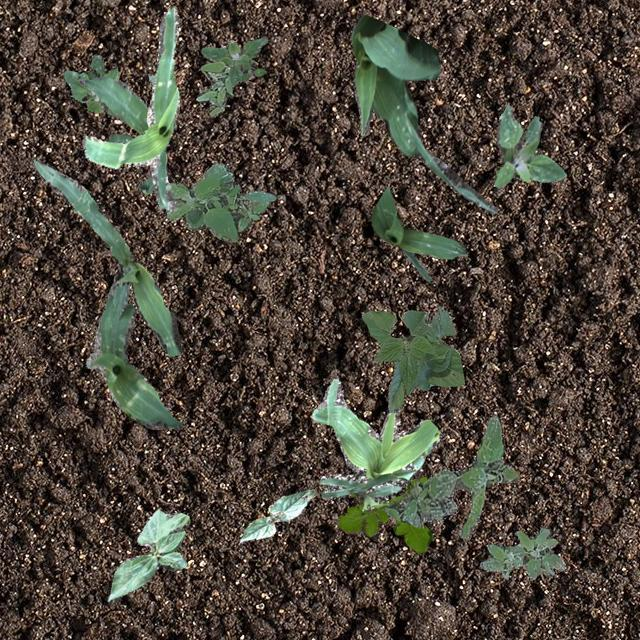crop: (32, 158, 182, 356), (350, 14, 496, 212), (82, 7, 178, 210), (310, 378, 442, 509), (86, 282, 182, 428), (361, 304, 464, 412), (369, 186, 465, 282), (78, 74, 154, 192), (106, 508, 188, 602), (238, 486, 314, 542)
weed: (384, 416, 518, 538), (164, 162, 274, 240), (336, 476, 430, 552), (492, 102, 566, 186), (478, 526, 564, 578), (61, 54, 118, 114), (200, 36, 266, 86), (194, 60, 232, 116)
